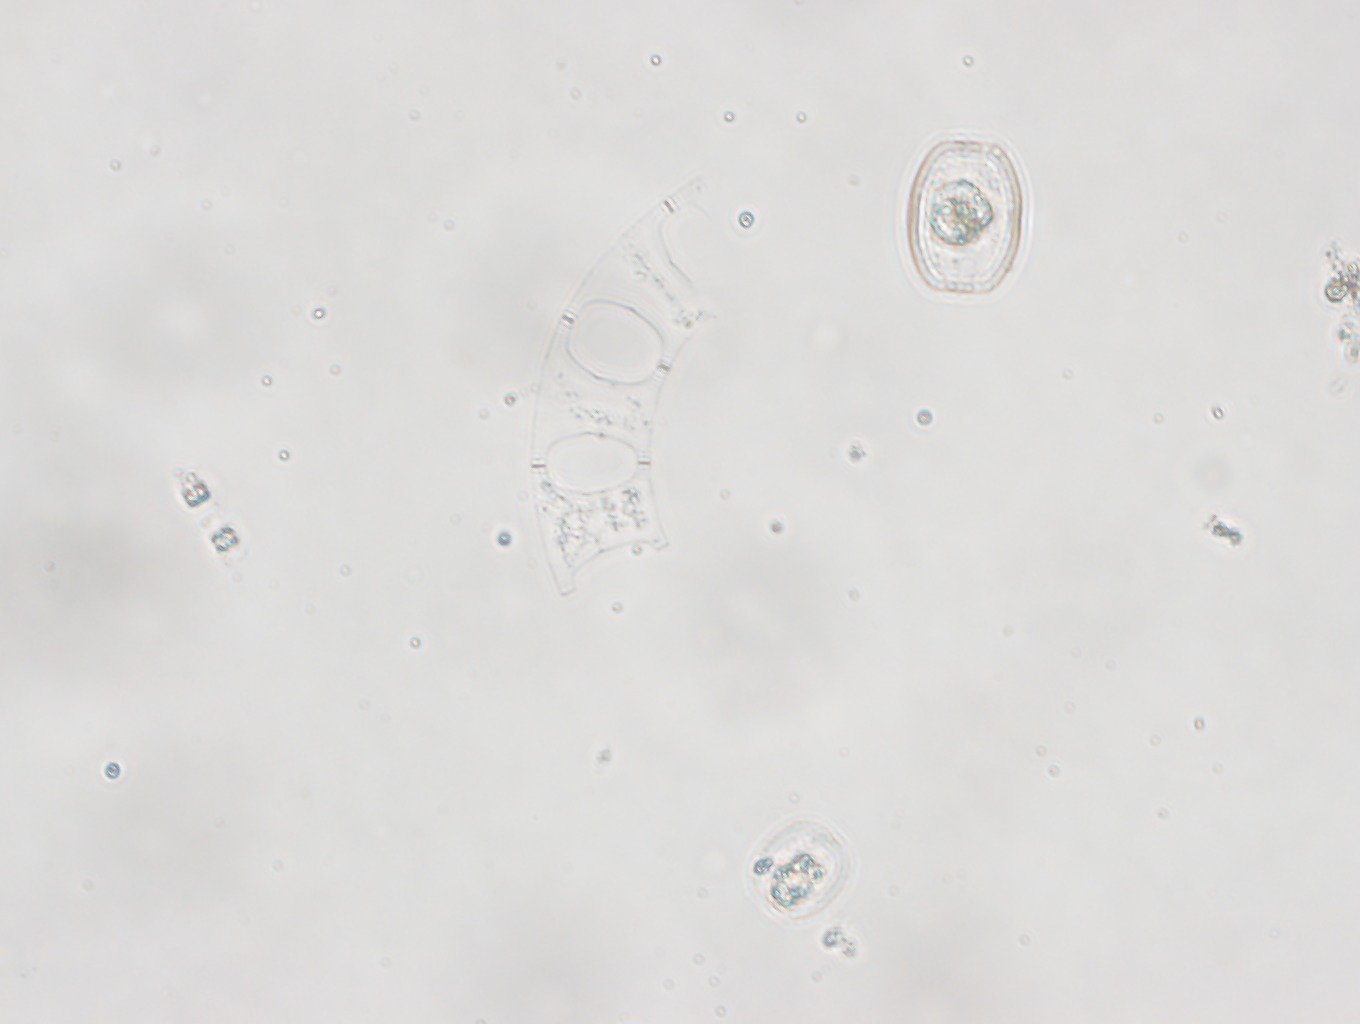eucampia: (514, 151, 751, 616)
skeletonema: (149, 459, 264, 582)
